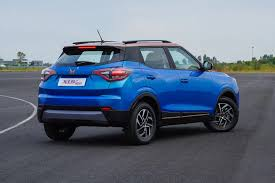XUV 400: (35, 35, 241, 145)
